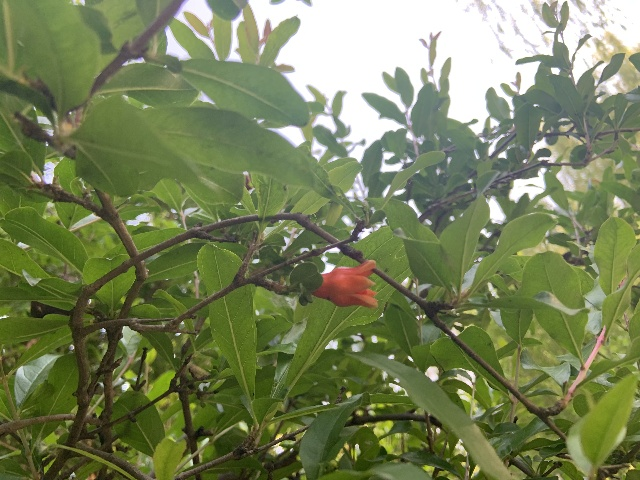flower: (312, 259, 377, 309)
